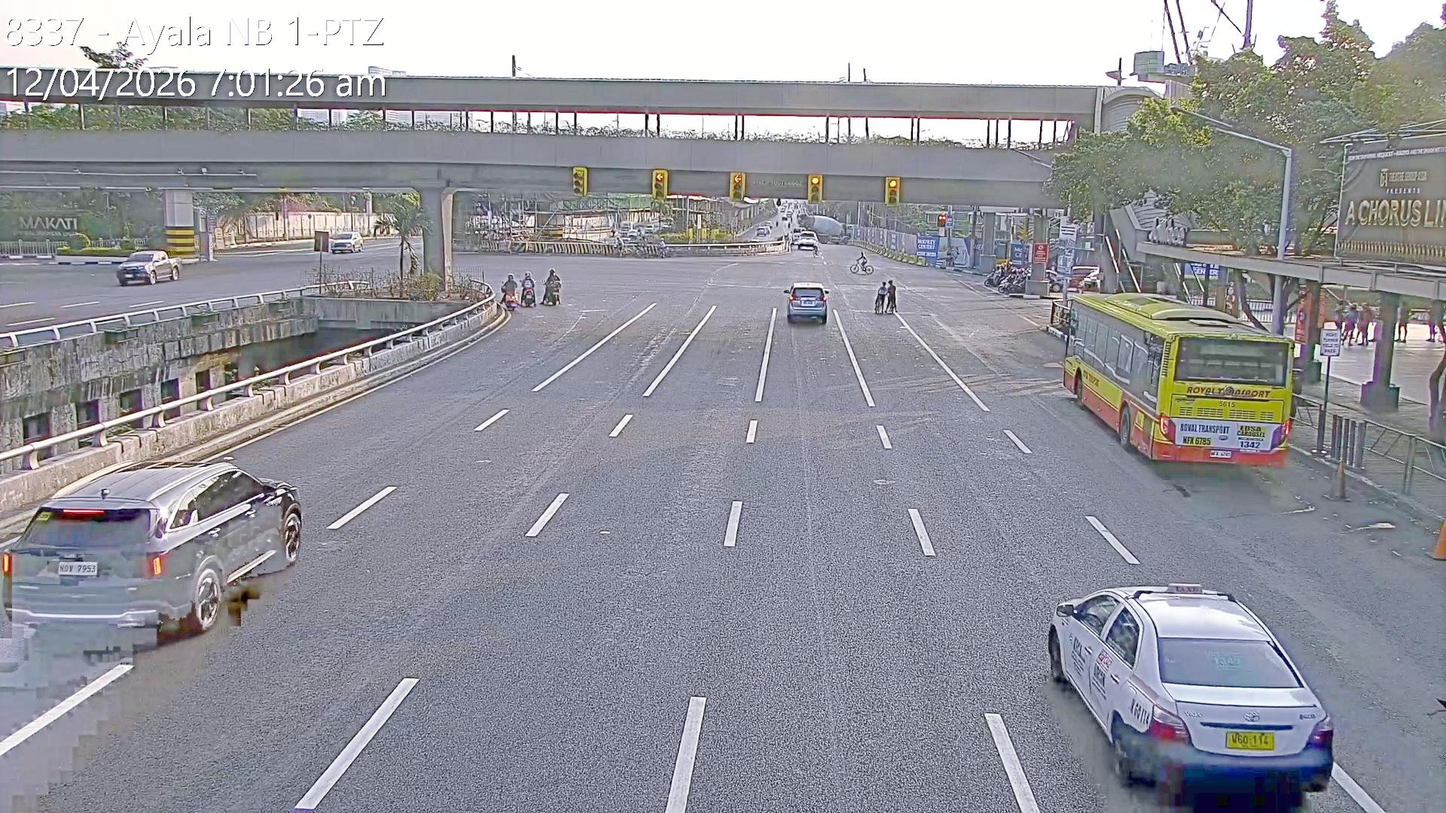Car: (1045, 573, 1333, 810), (3, 461, 307, 640), (783, 278, 834, 332), (115, 251, 181, 287), (328, 230, 365, 254)
Motor: (501, 270, 521, 314), (983, 261, 1007, 288), (544, 269, 561, 303), (997, 267, 1019, 293), (521, 273, 535, 303)
Not Accident: (495, 260, 569, 316)
